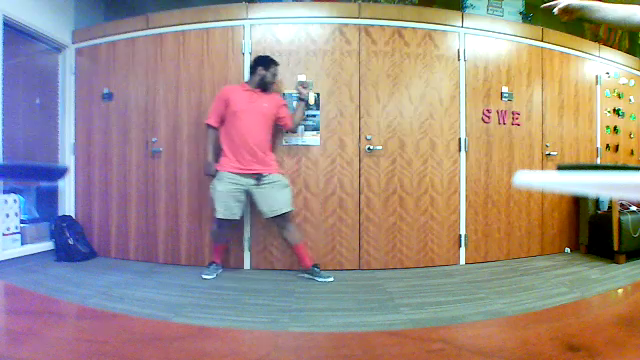up: (293, 69, 314, 101)
